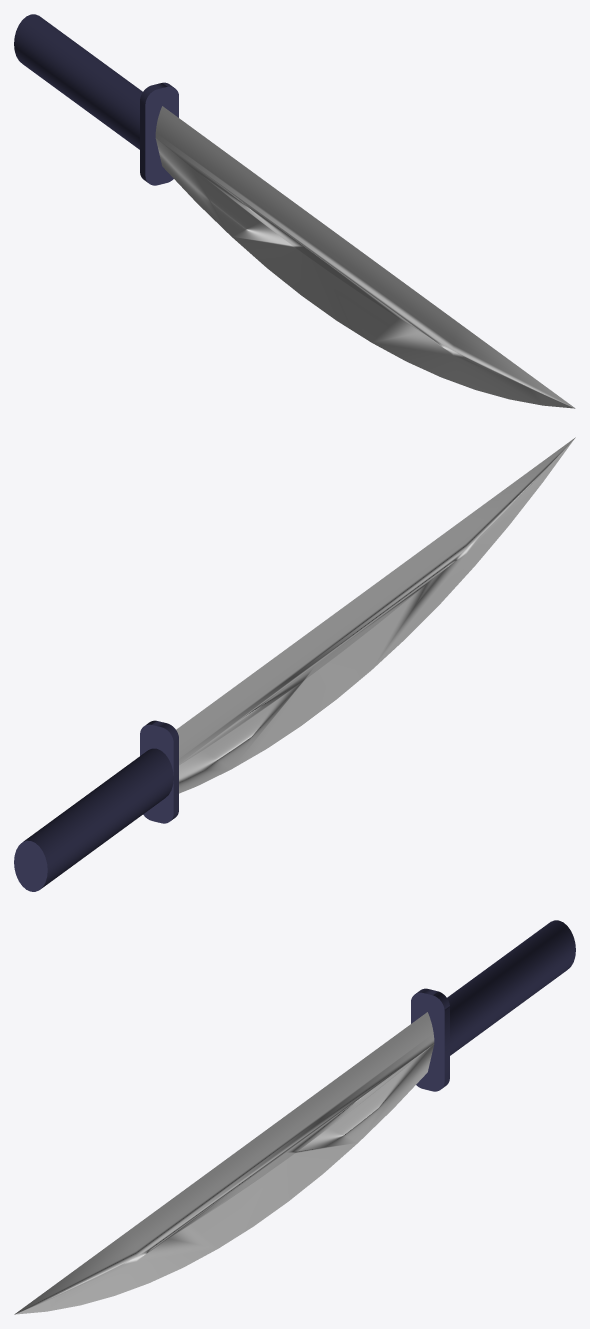
File: model_scale.obj
3 views of the same model, one above another, from view 1: azimuth 30°, elevation 25°; view 2: azimuth 150°, elevation 25°; view 3: azimuth 330°, elevation 25° (orthographic).
Visible parts, largest first — view 1: mesh1_mesh1-geometry, mesh9_mesh9-geometry, mesh6_mesh6-geometry; view 2: mesh1_mesh1-geometry, mesh9_mesh9-geometry, mesh6_mesh6-geometry; view 3: mesh1_mesh1-geometry, mesh9_mesh9-geometry, mesh6_mesh6-geometry.
Boxes of the visible parts, left/top/right/bottom form: mesh1_mesh1-geometry: left=155, top=106, right=575, bottom=408; mesh9_mesh9-geometry: left=14, top=14, right=142, bottom=149; mesh6_mesh6-geometry: left=140, top=82, right=178, bottom=185; mesh1_mesh1-geometry: left=176, top=437, right=575, bottom=793; mesh9_mesh9-geometry: left=14, top=748, right=173, bottom=891; mesh6_mesh6-geometry: left=140, top=720, right=178, bottom=823; mesh1_mesh1-geometry: left=14, top=1012, right=434, bottom=1314; mesh9_mesh9-geometry: left=447, top=920, right=575, bottom=1055; mesh6_mesh6-geometry: left=411, top=988, right=449, bottom=1091.
Size of the model in its own units: 0.00798 by 0.0239 by 0.2233.
